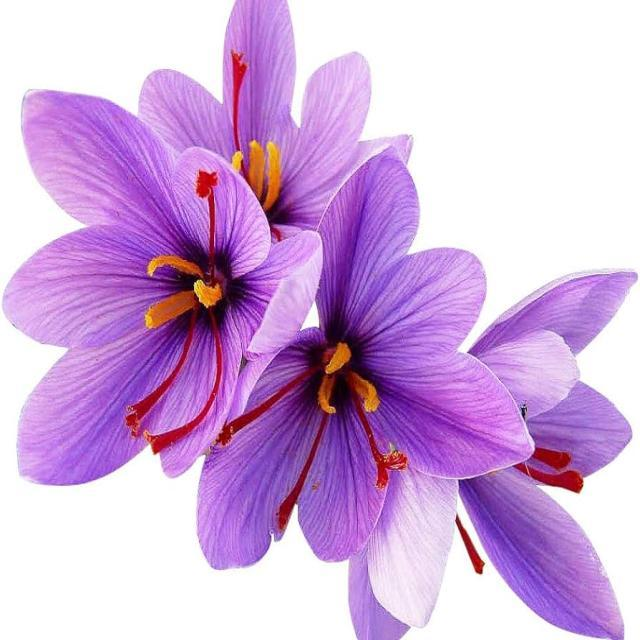Flower: (188, 152, 532, 571), (0, 70, 326, 480), (140, 0, 413, 231)
stigma: (144, 316, 225, 460), (122, 312, 198, 442), (212, 370, 315, 452), (270, 416, 328, 539), (356, 405, 412, 496), (218, 45, 249, 161), (189, 166, 221, 272), (517, 462, 589, 502), (454, 511, 494, 578), (534, 444, 581, 474)
